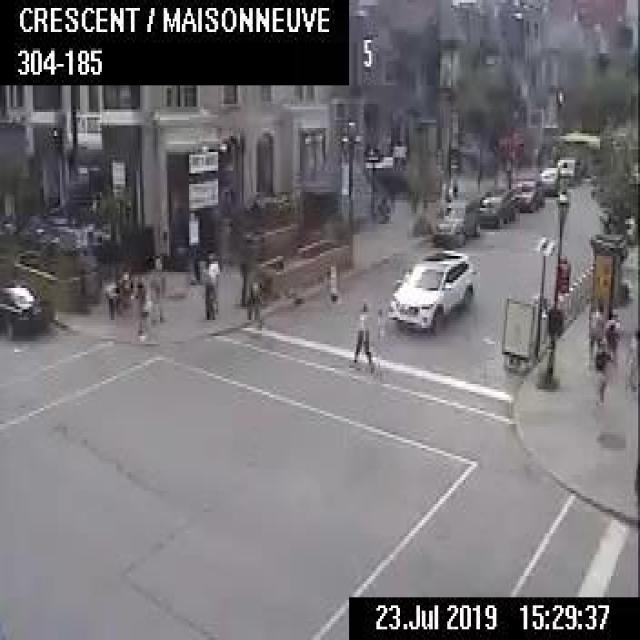pedestrian: (351, 296, 374, 365), (603, 306, 621, 370), (594, 337, 612, 401), (129, 276, 147, 334), (585, 304, 603, 361), (244, 266, 262, 320), (204, 252, 220, 312), (200, 270, 215, 320), (103, 272, 117, 318)
vehicle: (387, 246, 478, 330), (0, 278, 51, 342), (432, 198, 479, 244), (474, 187, 516, 224), (511, 177, 542, 211), (537, 165, 567, 193), (554, 155, 581, 183)
